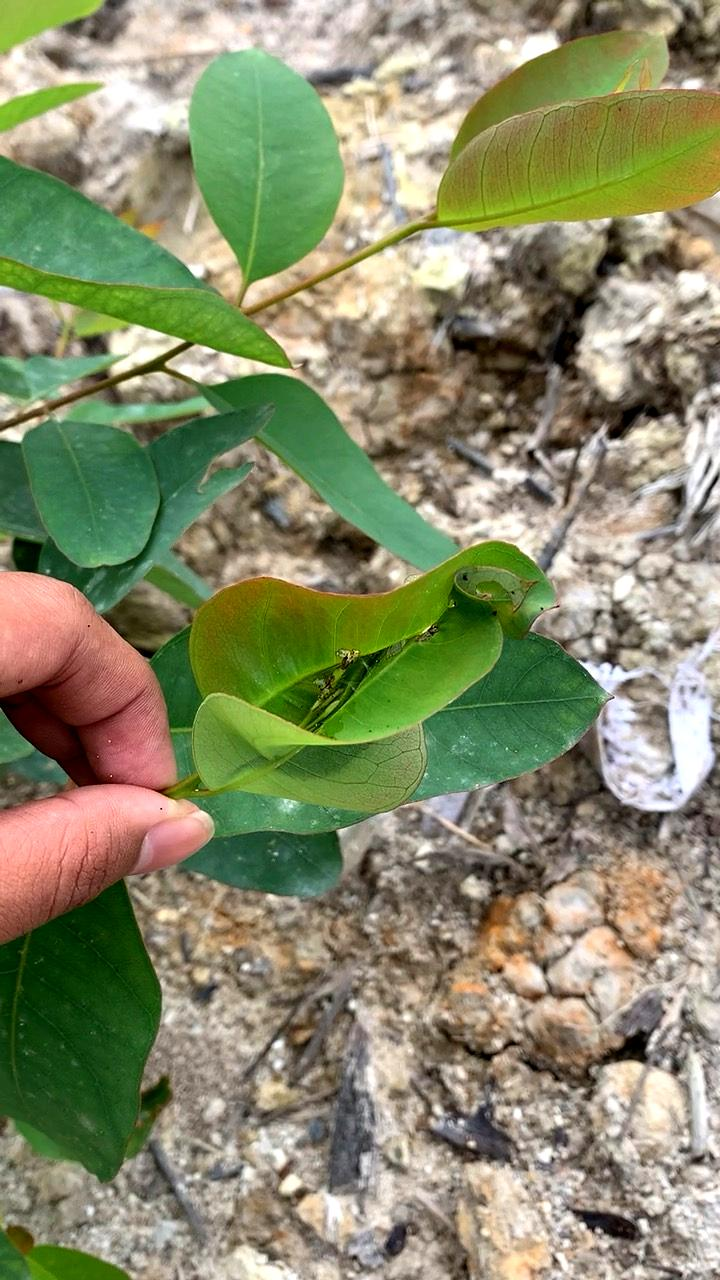Leaf Roller - Leaf: (137, 515, 595, 832)
